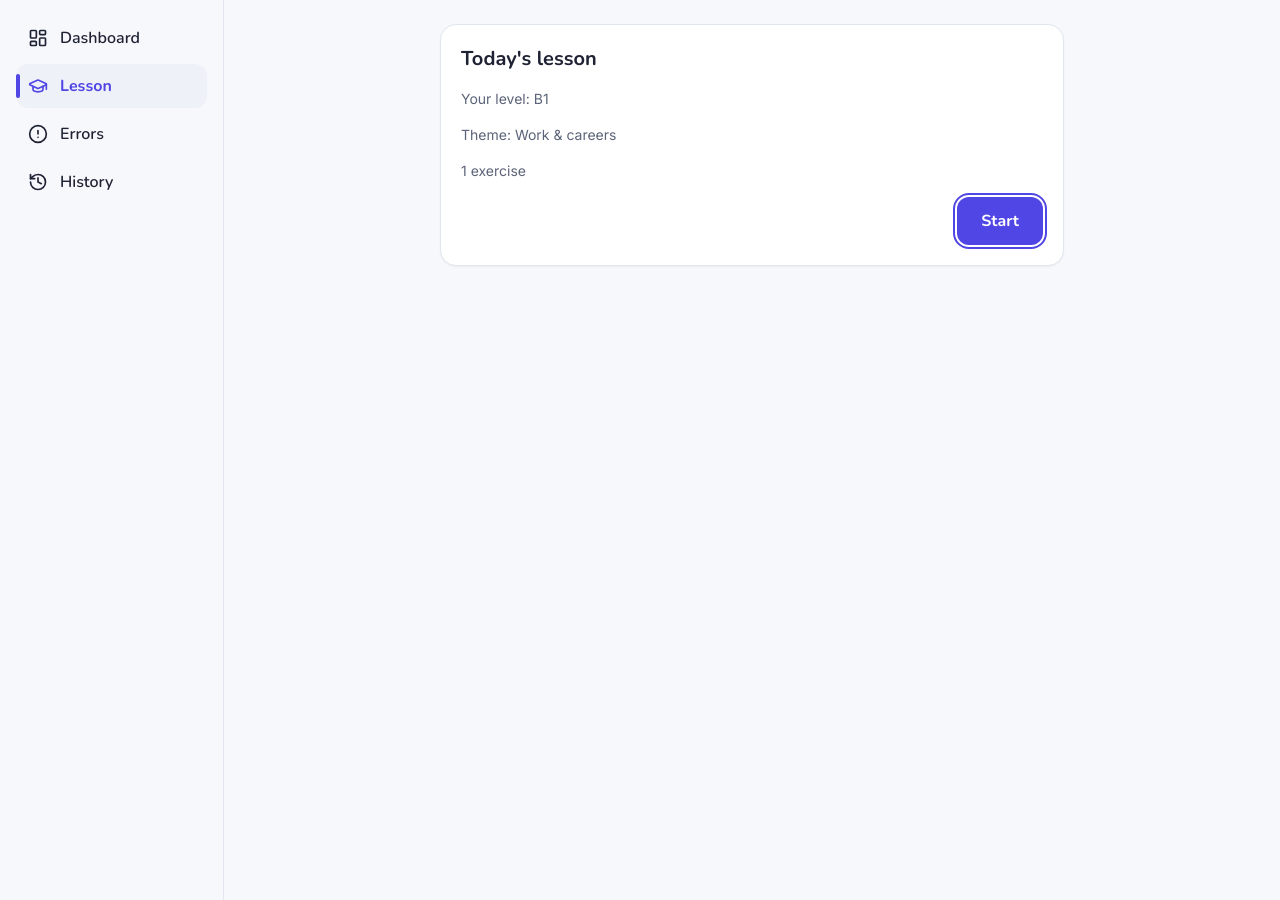
/lesson/[id] › renders the player for a known lesson
Expected: the navigation bar is shown, [0,0,224,899]
Click the button "Start": {"x": 1000, "y": 221} [957,197,1043,245]
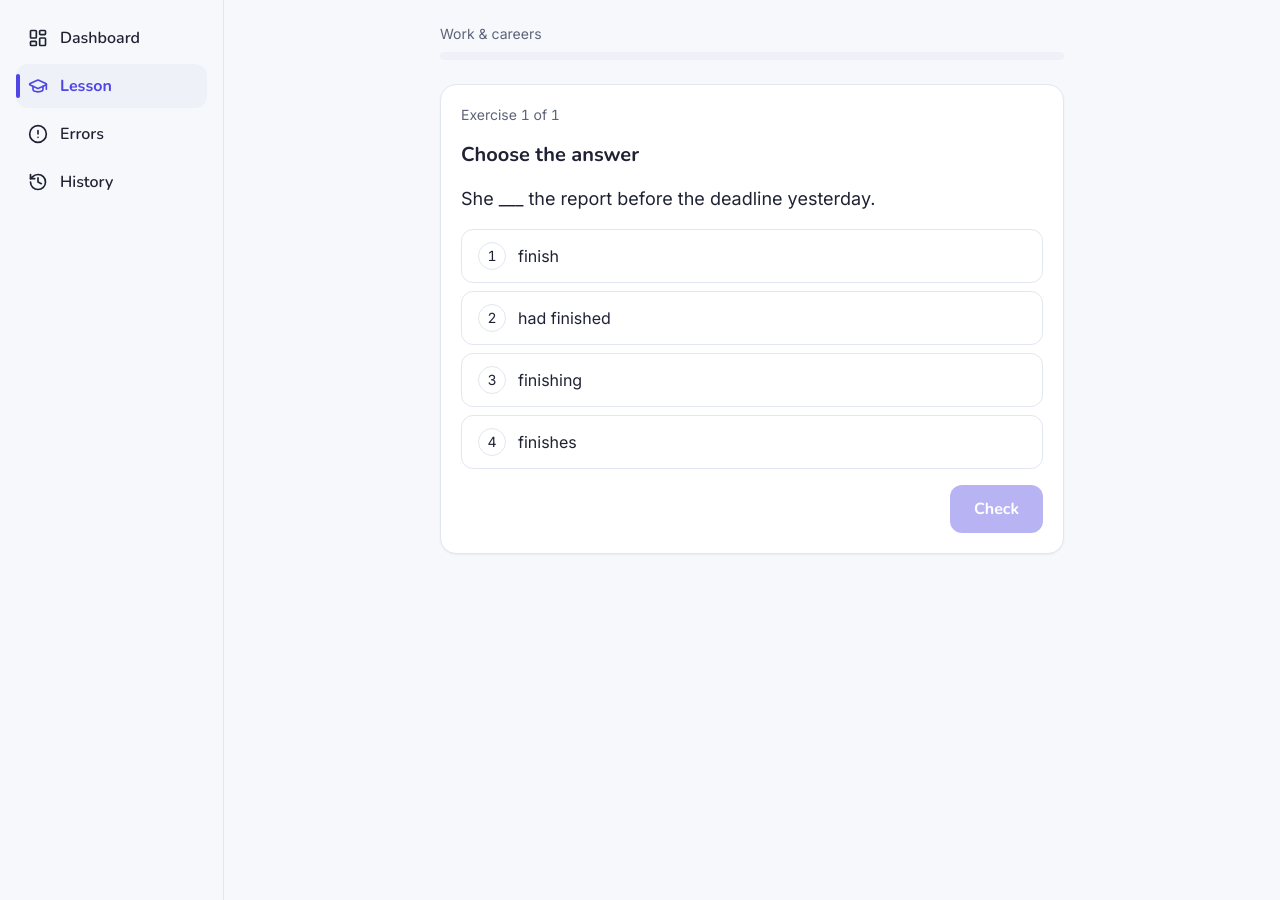
Now the text "Exercise 1 of 1" is shown, box [461,106,560,123]
